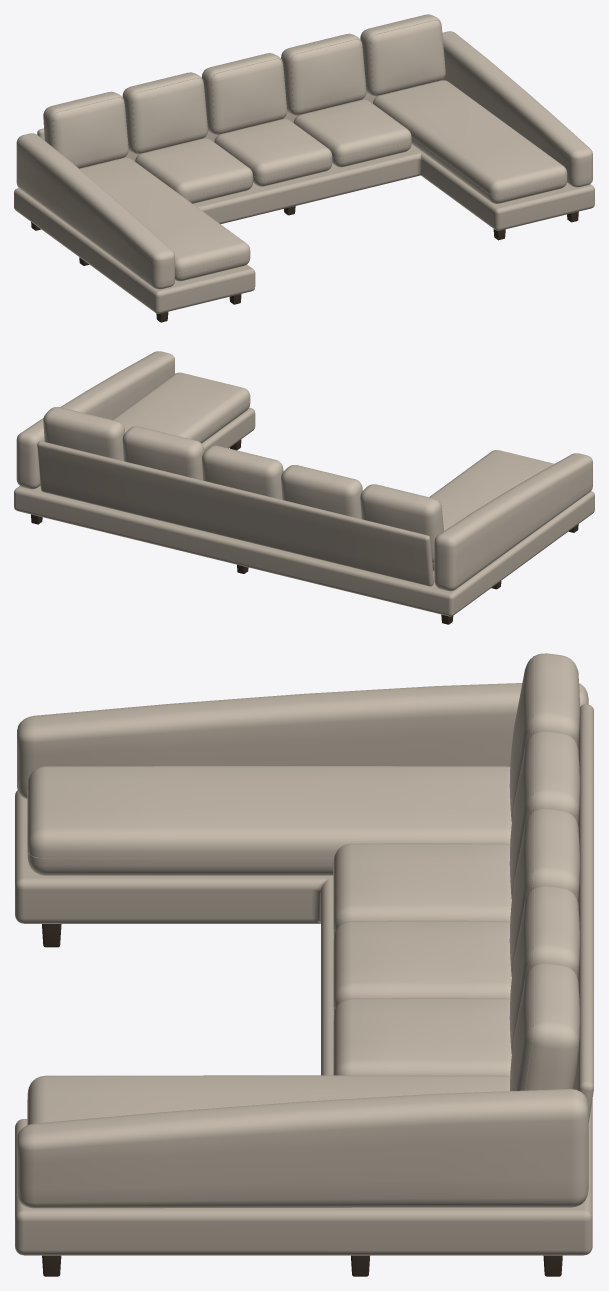
The model's file is sofa-u-shaped.glb.
3 renders of one model, top to bottom at view 1: azimuth 30°, elevation 25°; view 2: azimuth 150°, elevation 25°; view 3: azimuth 270°, elevation 25°, orthographic. The views are drawn at different scales.
Parts seen in each view (by area): view 1: EQ_sofa-u-shaped, EQ_sofa-u-shaped_Continuous_Upholstered_Base, EQ_sofa-u-shaped_Armrest_Left, EQ_sofa-u-shaped_Armrest_Right; view 2: EQ_sofa-u-shaped, EQ_sofa-u-shaped_Rear_Support, EQ_sofa-u-shaped_Continuous_Upholstered_Base, EQ_sofa-u-shaped_Armrest_Left, EQ_sofa-u-shaped_Armrest_Right; view 3: EQ_sofa-u-shaped, EQ_sofa-u-shaped_Armrest_Right, EQ_sofa-u-shaped_Continuous_Upholstered_Base, EQ_sofa-u-shaped_Armrest_Left, EQ_sofa-u-shaped_Rear_Support.
Part boxes in pixels (x1=…): EQ_sofa-u-shaped: x1=31, y1=14, x2=578, y2=322; EQ_sofa-u-shaped_Continuous_Upholstered_Base: x1=14, y1=144, x2=594, y2=313; EQ_sofa-u-shaped_Armrest_Left: x1=16, y1=133, x2=174, y2=289; EQ_sofa-u-shaped_Armrest_Right: x1=441, y1=31, x2=592, y2=187; EQ_sofa-u-shaped: x1=31, y1=372, x2=578, y2=624; EQ_sofa-u-shaped_Rear_Support: x1=37, y1=441, x2=433, y2=586; EQ_sofa-u-shaped_Continuous_Upholstered_Base: x1=14, y1=407, x2=594, y2=616; EQ_sofa-u-shaped_Armrest_Left: x1=434, y1=453, x2=592, y2=591; EQ_sofa-u-shaped_Armrest_Right: x1=16, y1=351, x2=174, y2=489; EQ_sofa-u-shaped: x1=27, y1=653, x2=579, y2=1276; EQ_sofa-u-shaped_Armrest_Right: x1=17, y1=1089, x2=588, y2=1208; EQ_sofa-u-shaped_Continuous_Upholstered_Base: x1=15, y1=790, x2=592, y2=1255; EQ_sofa-u-shaped_Armrest_Left: x1=17, y1=683, x2=588, y2=798; EQ_sofa-u-shaped_Rear_Support: x1=573, y1=704, x2=593, y2=1122.
Bounding box in the file's own units: 3.59 × 0.9156 × 2.04.
